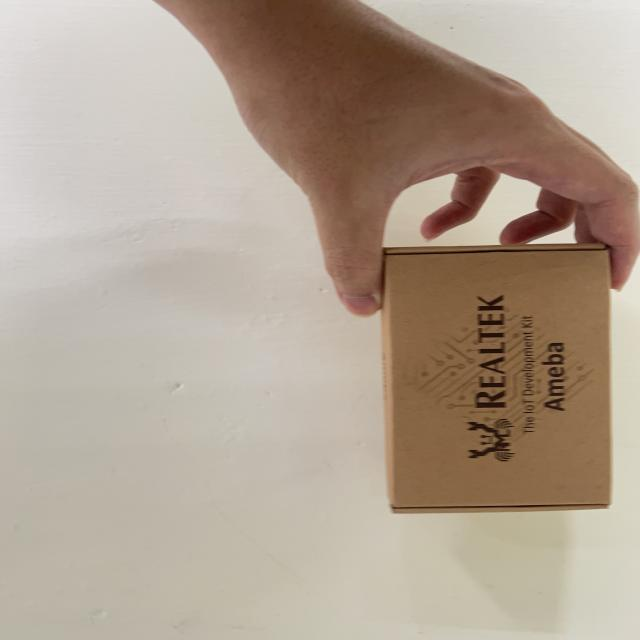box: (374, 232, 640, 525)
